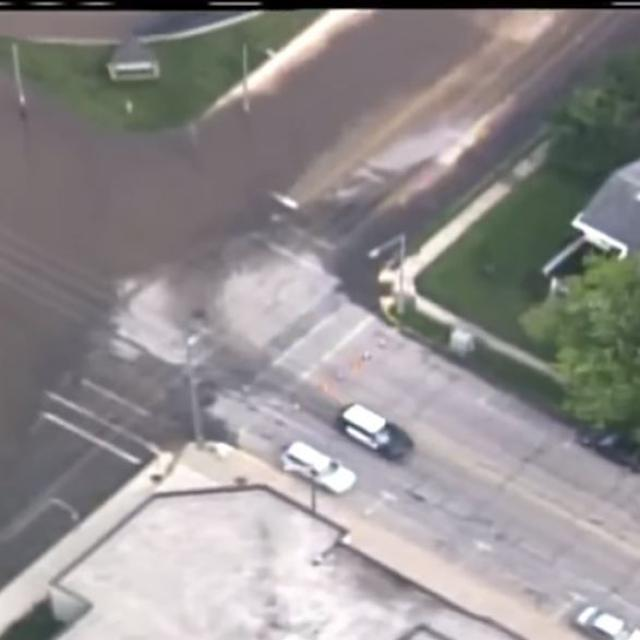flooded_areas: (0, 11, 482, 340)
